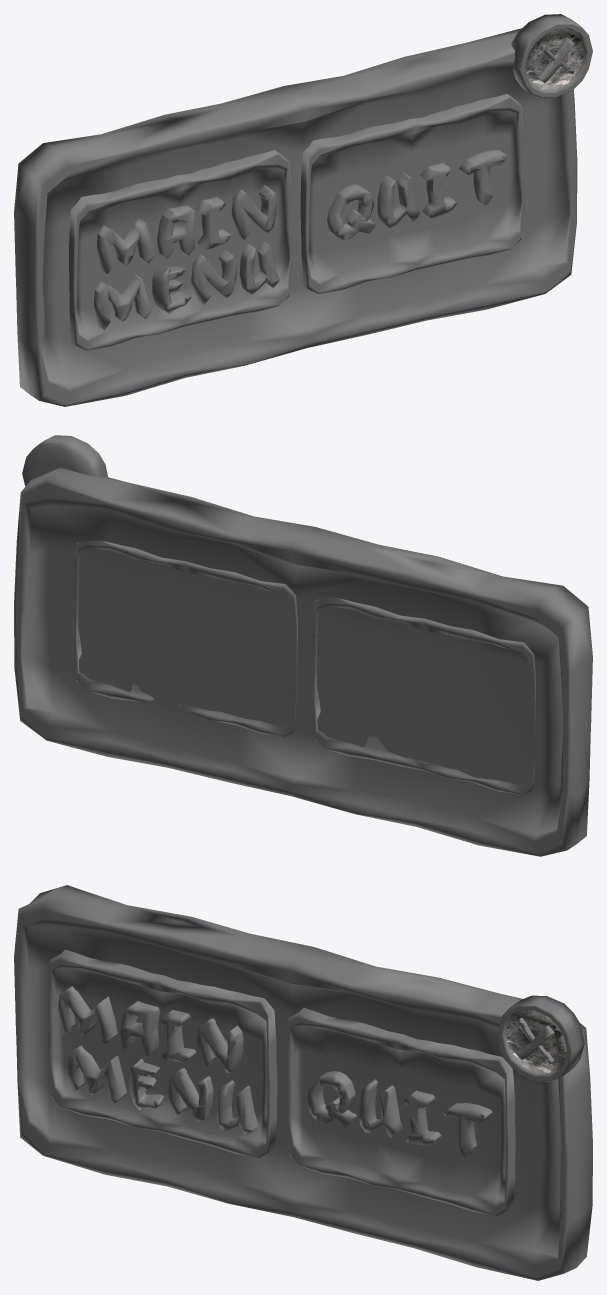
The model's file is menu_popup.obj.
The picture shows the model from 3 angles, top to bottom: view 1: azimuth 30°, elevation 25°; view 2: azimuth 150°, elevation 25°; view 3: azimuth 330°, elevation 25°; orthographic projection. The views are drawn at different scales.
Visible parts, largest first — view 1: turn_indicator:background polySurface64 turn_indicator:polySurfa, turn_indicator:o_face turn_indicator:polySurface1 polySurface65, turn_indicator:o_face turn_indicator:polySurface1 polySurface74, turn_indicator:background turn_indicator:polySurface1 polySurfac, turn_indicator:o_face turn_indicator:polySurface1 polySurface91, polySurface83, polySurface87, polySurface78, undo_button:Default undo_button:polySurface21 undo_button:polySu, turn_indicator:o_player polySurface78, planarTrimmedSurface4; view 2: turn_indicator:x_face turn_indicator:polySurface1 polySurface66, turn_indicator:background polySurface64 turn_indicator:polySurfa, turn_indicator:background turn_indicator:polySurface1 polySurfac, undo_button:Default undo_button:polySurface21 undo_button:polySu; view 3: turn_indicator:background polySurface64 turn_indicator:polySurfa, turn_indicator:o_face turn_indicator:polySurface1 polySurface65, turn_indicator:o_face turn_indicator:polySurface1 polySurface74, turn_indicator:background turn_indicator:polySurface1 polySurfac, turn_indicator:o_face turn_indicator:polySurface1 polySurface91, polySurface83, polySurface87, polySurface78, undo_button:Default undo_button:polySurface21 undo_button:polySu, turn_indicator:o_player polySurface78, planarTrimmedSurface4.
Part boxes in pixels (x1,y1,x2,y2): turn_indicator:background polySurface64 turn_indicator:polySurfa: [14, 28, 577, 406]; turn_indicator:o_face turn_indicator:polySurface1 polySurface65: [43, 73, 569, 385]; turn_indicator:o_face turn_indicator:polySurface1 polySurface74: [309, 112, 521, 280]; turn_indicator:background turn_indicator:polySurface1 polySurfac: [69, 94, 524, 350]; turn_indicator:o_face turn_indicator:polySurface1 polySurface91: [77, 168, 289, 337]; polySurface83: [96, 185, 276, 274]; polySurface87: [327, 149, 507, 239]; polySurface78: [94, 241, 279, 329]; undo_button:Default undo_button:polySurface21 undo_button:polySu: [511, 14, 592, 97]; turn_indicator:o_player polySurface78: [152, 265, 191, 314]; planarTrimmedSurface4: [537, 37, 574, 83]; turn_indicator:x_face turn_indicator:polySurface1 polySurface66: [22, 507, 562, 834]; turn_indicator:background polySurface64 turn_indicator:polySurfa: [14, 467, 592, 856]; turn_indicator:background turn_indicator:polySurface1 polySurfac: [73, 540, 535, 795]; undo_button:Default undo_button:polySurface21 undo_button:polySu: [22, 435, 107, 486]; turn_indicator:background polySurface64 turn_indicator:polySurfa: [14, 885, 592, 1280]; turn_indicator:o_face turn_indicator:polySurface1 polySurface65: [26, 926, 560, 1256]; turn_indicator:o_face turn_indicator:polySurface1 polySurface74: [292, 1026, 505, 1200]; turn_indicator:background turn_indicator:polySurface1 polySurfac: [48, 949, 515, 1216]; turn_indicator:o_face turn_indicator:polySurface1 polySurface91: [54, 968, 267, 1142]; polySurface83: [58, 986, 243, 1073]; polySurface87: [307, 1071, 492, 1157]; polySurface78: [68, 1045, 258, 1135]; undo_button:Default undo_button:polySurface21 undo_button:polySu: [497, 995, 584, 1081]; turn_indicator:o_player polySurface78: [129, 1058, 164, 1110]; planarTrimmedSurface4: [515, 1017, 554, 1064].
Size of what is drawn, in the model's own units: 55.96 by 27.12 by 6.31.
5 materials, 1 textured.
